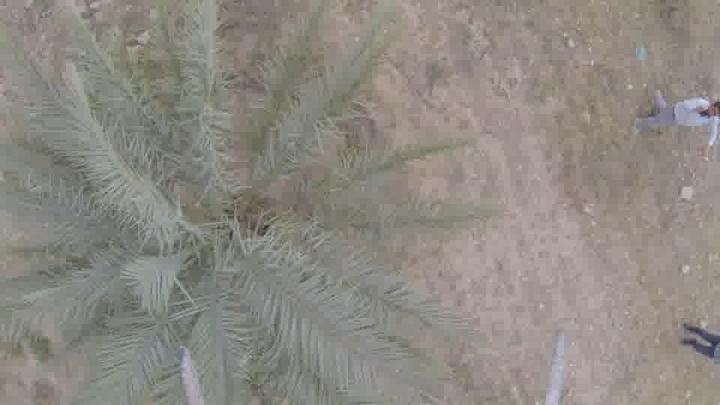Date-Palm-Crown: (72, 84, 346, 370)
